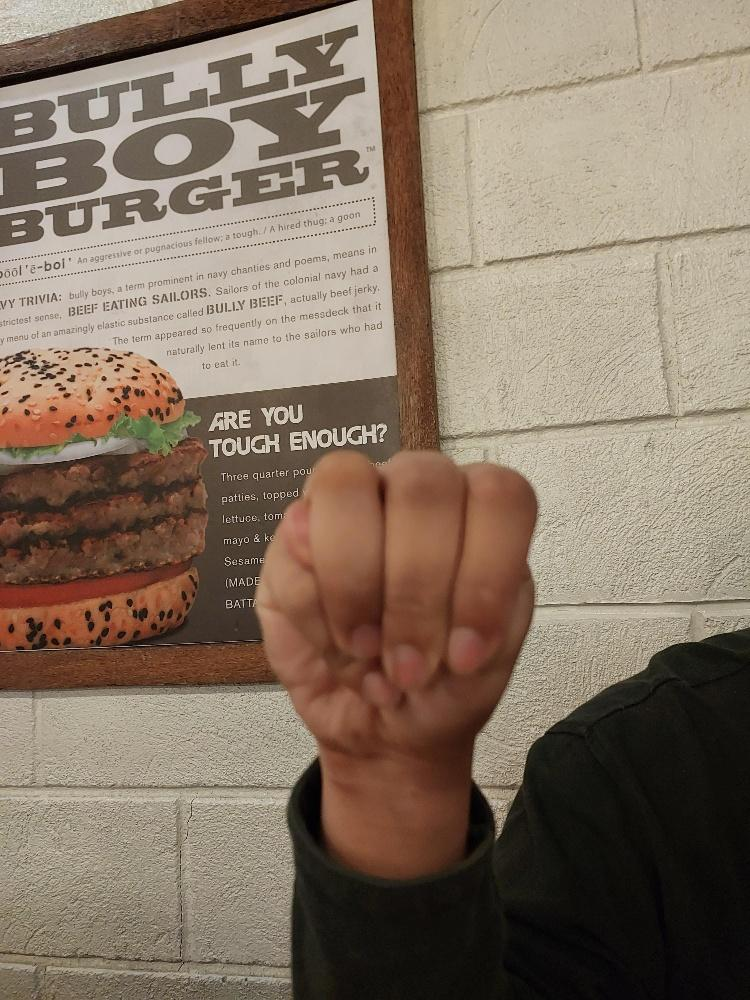m: (254, 449, 541, 758)
